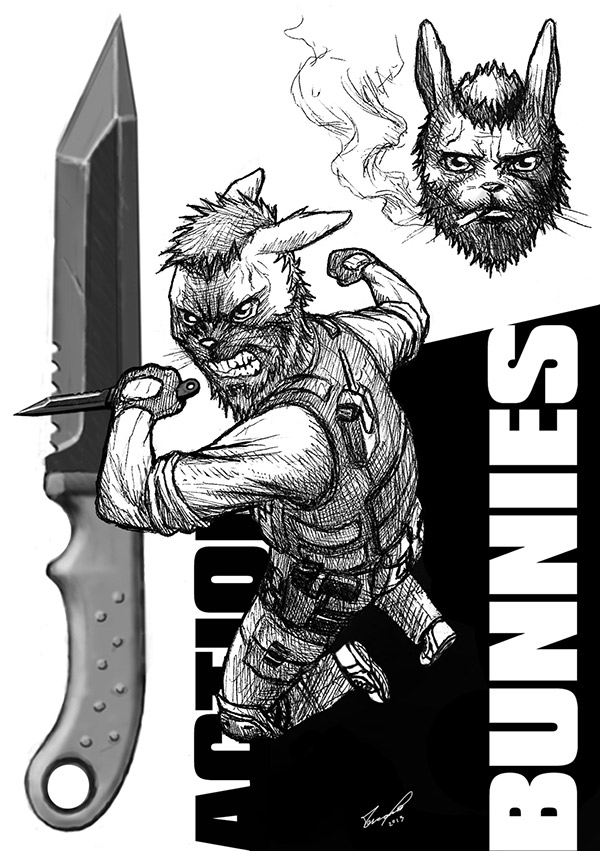cat: (109, 226, 316, 493), (368, 45, 600, 264)
